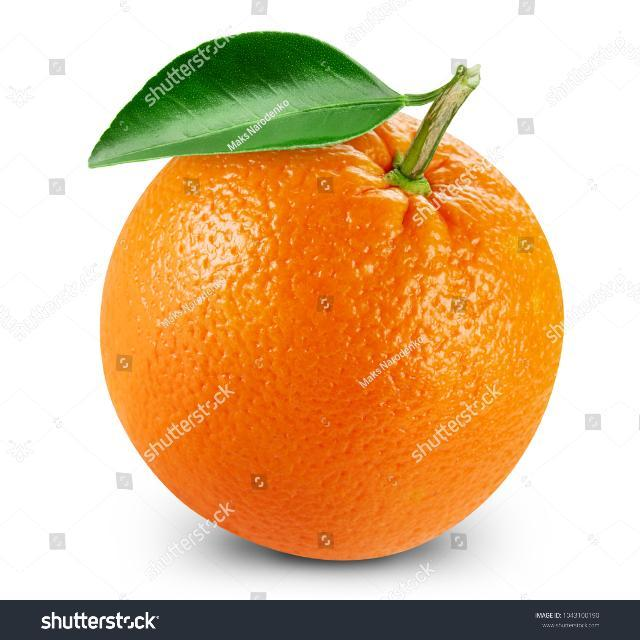Orange: (97, 107, 565, 562)
